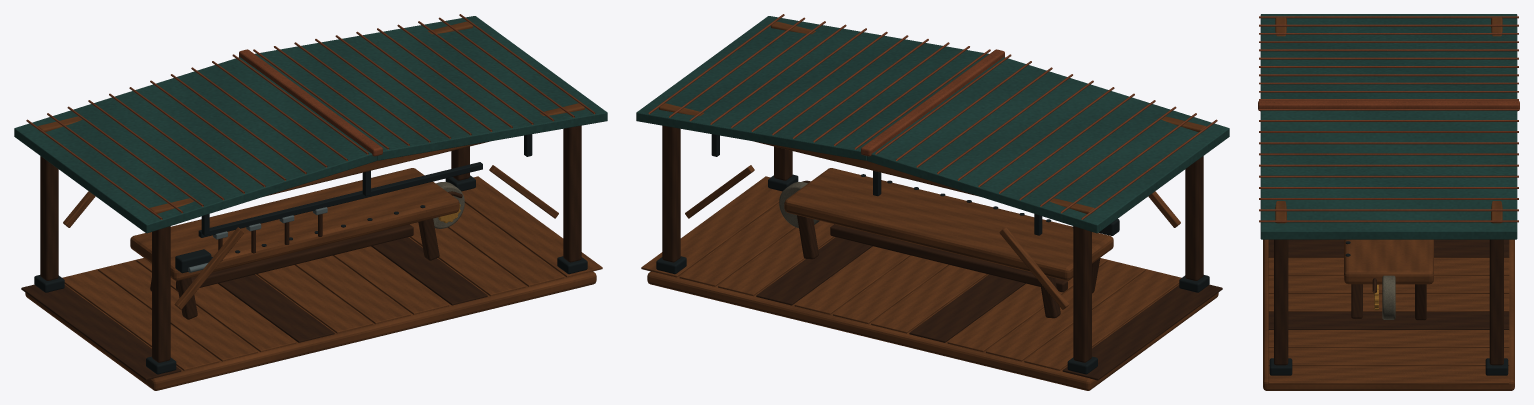
Rendered from asset.glb.
The picture shows the model from 3 angles, left to right: view 1: azimuth 30°, elevation 25°; view 2: azimuth 150°, elevation 25°; view 3: azimuth 270°, elevation 25°; orthographic projection. The views are drawn at different scales.
Parts seen in each view (by area): view 1: MaterialBatch_Oxidised_copper_roofing, MaterialBatch_Quarter-sawn_oak, MaterialBatch_Smoke-stained_walnut, MaterialBatch_Weathered_copper, MaterialBatch_Forged_blue-black_iron; view 2: MaterialBatch_Oxidised_copper_roofing, MaterialBatch_Quarter-sawn_oak, MaterialBatch_Smoke-stained_walnut, MaterialBatch_Weathered_copper, MaterialBatch_Forged_blue-black_iron, Workarea grindstone; view 3: MaterialBatch_Oxidised_copper_roofing, MaterialBatch_Quarter-sawn_oak, MaterialBatch_Weathered_copper, MaterialBatch_Smoke-stained_walnut, MaterialBatch_Forged_blue-black_iron, Workarea grindstone.
Boxes of the visible parts, box(x1,y1,x2,y2) form: MaterialBatch_Oxidised_copper_roofing: box(14, 16, 607, 233); MaterialBatch_Quarter-sawn_oak: box(25, 21, 602, 390); MaterialBatch_Smoke-stained_walnut: box(21, 125, 581, 380); MaterialBatch_Weathered_copper: box(26, 14, 595, 219); MaterialBatch_Forged_blue-black_iron: box(34, 134, 587, 374); MaterialBatch_Oxidised_copper_roofing: box(636, 16, 1229, 233); MaterialBatch_Quarter-sawn_oak: box(641, 21, 1218, 390); MaterialBatch_Smoke-stained_walnut: box(662, 125, 1222, 380); MaterialBatch_Weathered_copper: box(648, 14, 1217, 219); MaterialBatch_Forged_blue-black_iron: box(656, 134, 1209, 374); Workarea grindstone: box(779, 182, 819, 228); MaterialBatch_Oxidised_copper_roofing: box(1260, 14, 1517, 239); MaterialBatch_Quarter-sawn_oak: box(1263, 17, 1514, 390); MaterialBatch_Weathered_copper: box(1258, 16, 1519, 222); MaterialBatch_Smoke-stained_walnut: box(1268, 239, 1509, 365); MaterialBatch_Forged_blue-black_iron: box(1269, 241, 1508, 375); Workarea grindstone: box(1382, 275, 1395, 319).
Bounding box in the file's own units: 22.9 × 9.1 × 11.64.
8 materials, 8 textured.
